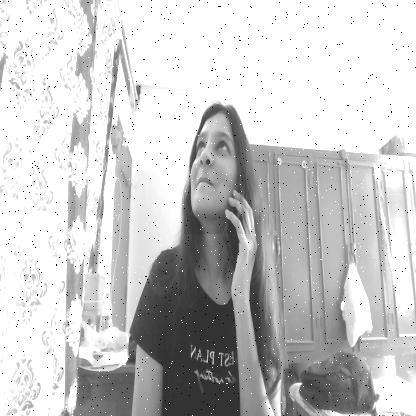Distracted: (184, 102, 245, 234)
